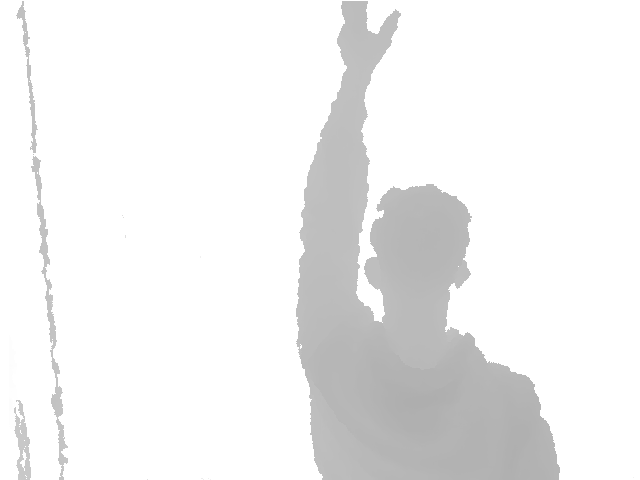hand: (336, 1, 402, 73)
head: (363, 182, 473, 317)
person: (296, 1, 562, 480)
